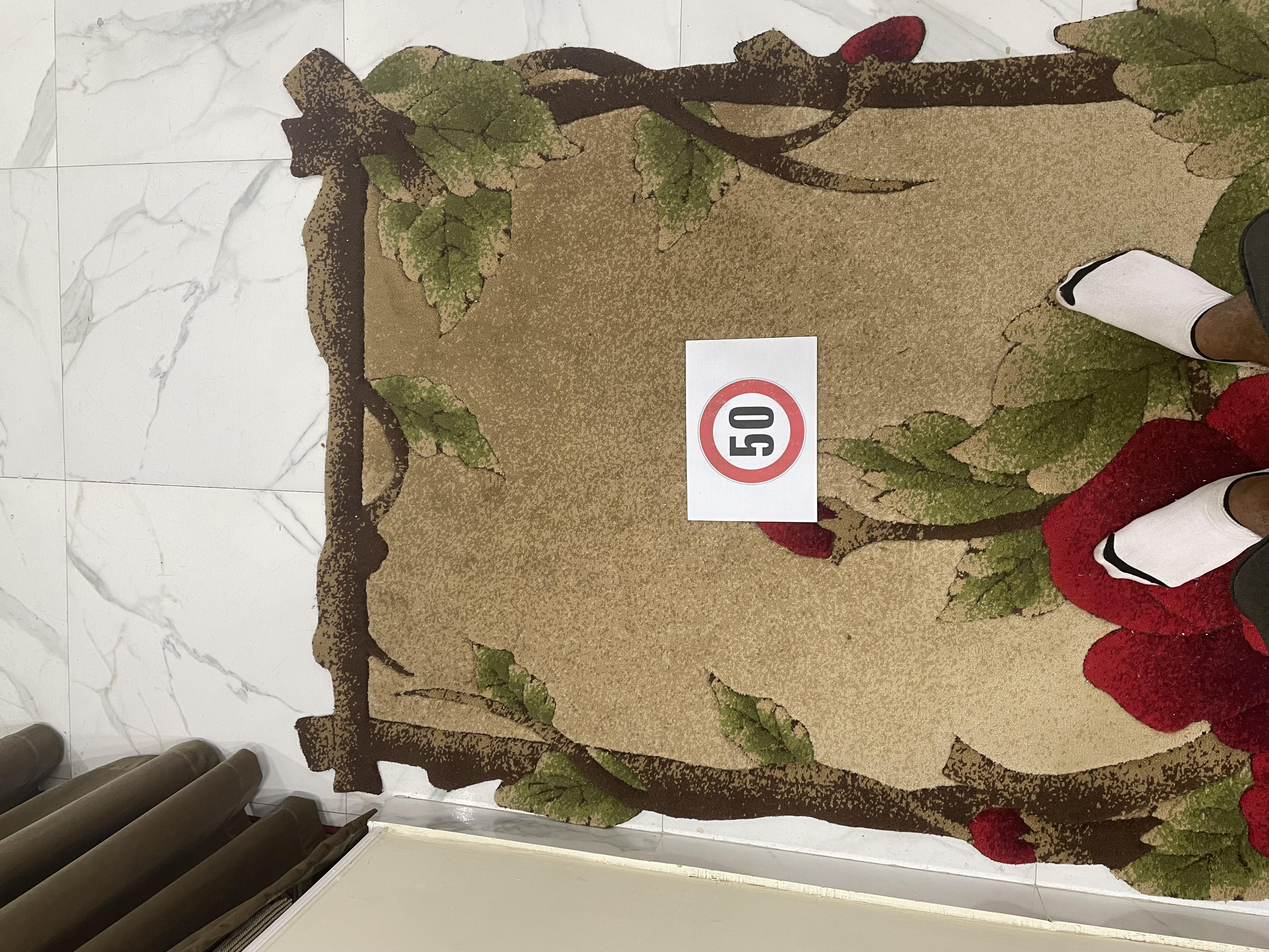50-Speed: (462, 466, 577, 576)
